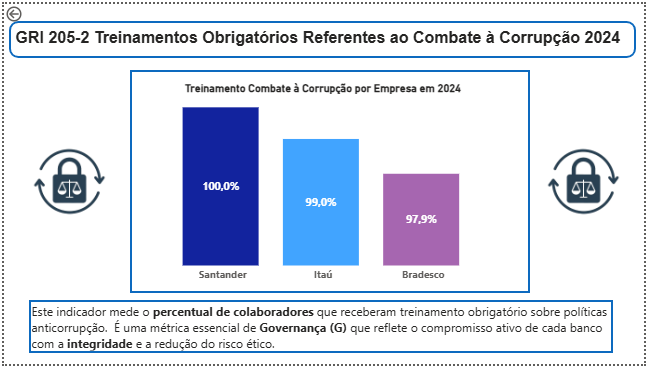

The dashboard page shown, as its layout file describes it:
{"tool":"powerbi","page":{"name":"GRI 205-2 Treinamentos para Combate à Corrupção","canvas":[1280,720],"ordinal":7},"visuals":[{"type":"image","box":[10,132,242,446],"z":0},{"type":"image","box":[1038,132,242,446],"z":1000},{"type":"shape","box":[252,132,800,446],"z":2000},{"type":"shape","box":[10,34,1254,74],"z":3000},{"type":"textbox","box":[18,44,1232,54],"z":4000},{"type":"textbox","box":[50,592,1190,106],"z":5000},{"type":"columnChart","title":"Treinamento Combate à Corrupção por Empresa em 2024","fields":{"Category":["Fato.Empresa"],"Y":["Fato.GRI_205_2_Treinamento_Corrupcao"]},"box":[272,156,732,408],"z":6000},{"type":"shape","box":[50,592,1168,106],"z":7000},{"type":"actionButton","box":[0,0,100,40],"z":8000}]}

Visuals, with their boxes in screenshot pixels (x1, y1, x2, y2), scaled from the page's 1280x720 canvas onto the 648x368 screenshot:
image: locate(5, 67, 128, 295)
image: locate(525, 67, 647, 295)
shape: locate(128, 67, 533, 295)
shape: locate(5, 17, 640, 55)
textbox: locate(9, 22, 633, 50)
textbox: locate(25, 303, 628, 357)
"Treinamento Combate à Corrupção por Empresa em 2024" columnChart: locate(138, 80, 508, 288)
shape: locate(25, 303, 617, 357)
actionButton: locate(0, 0, 51, 20)
